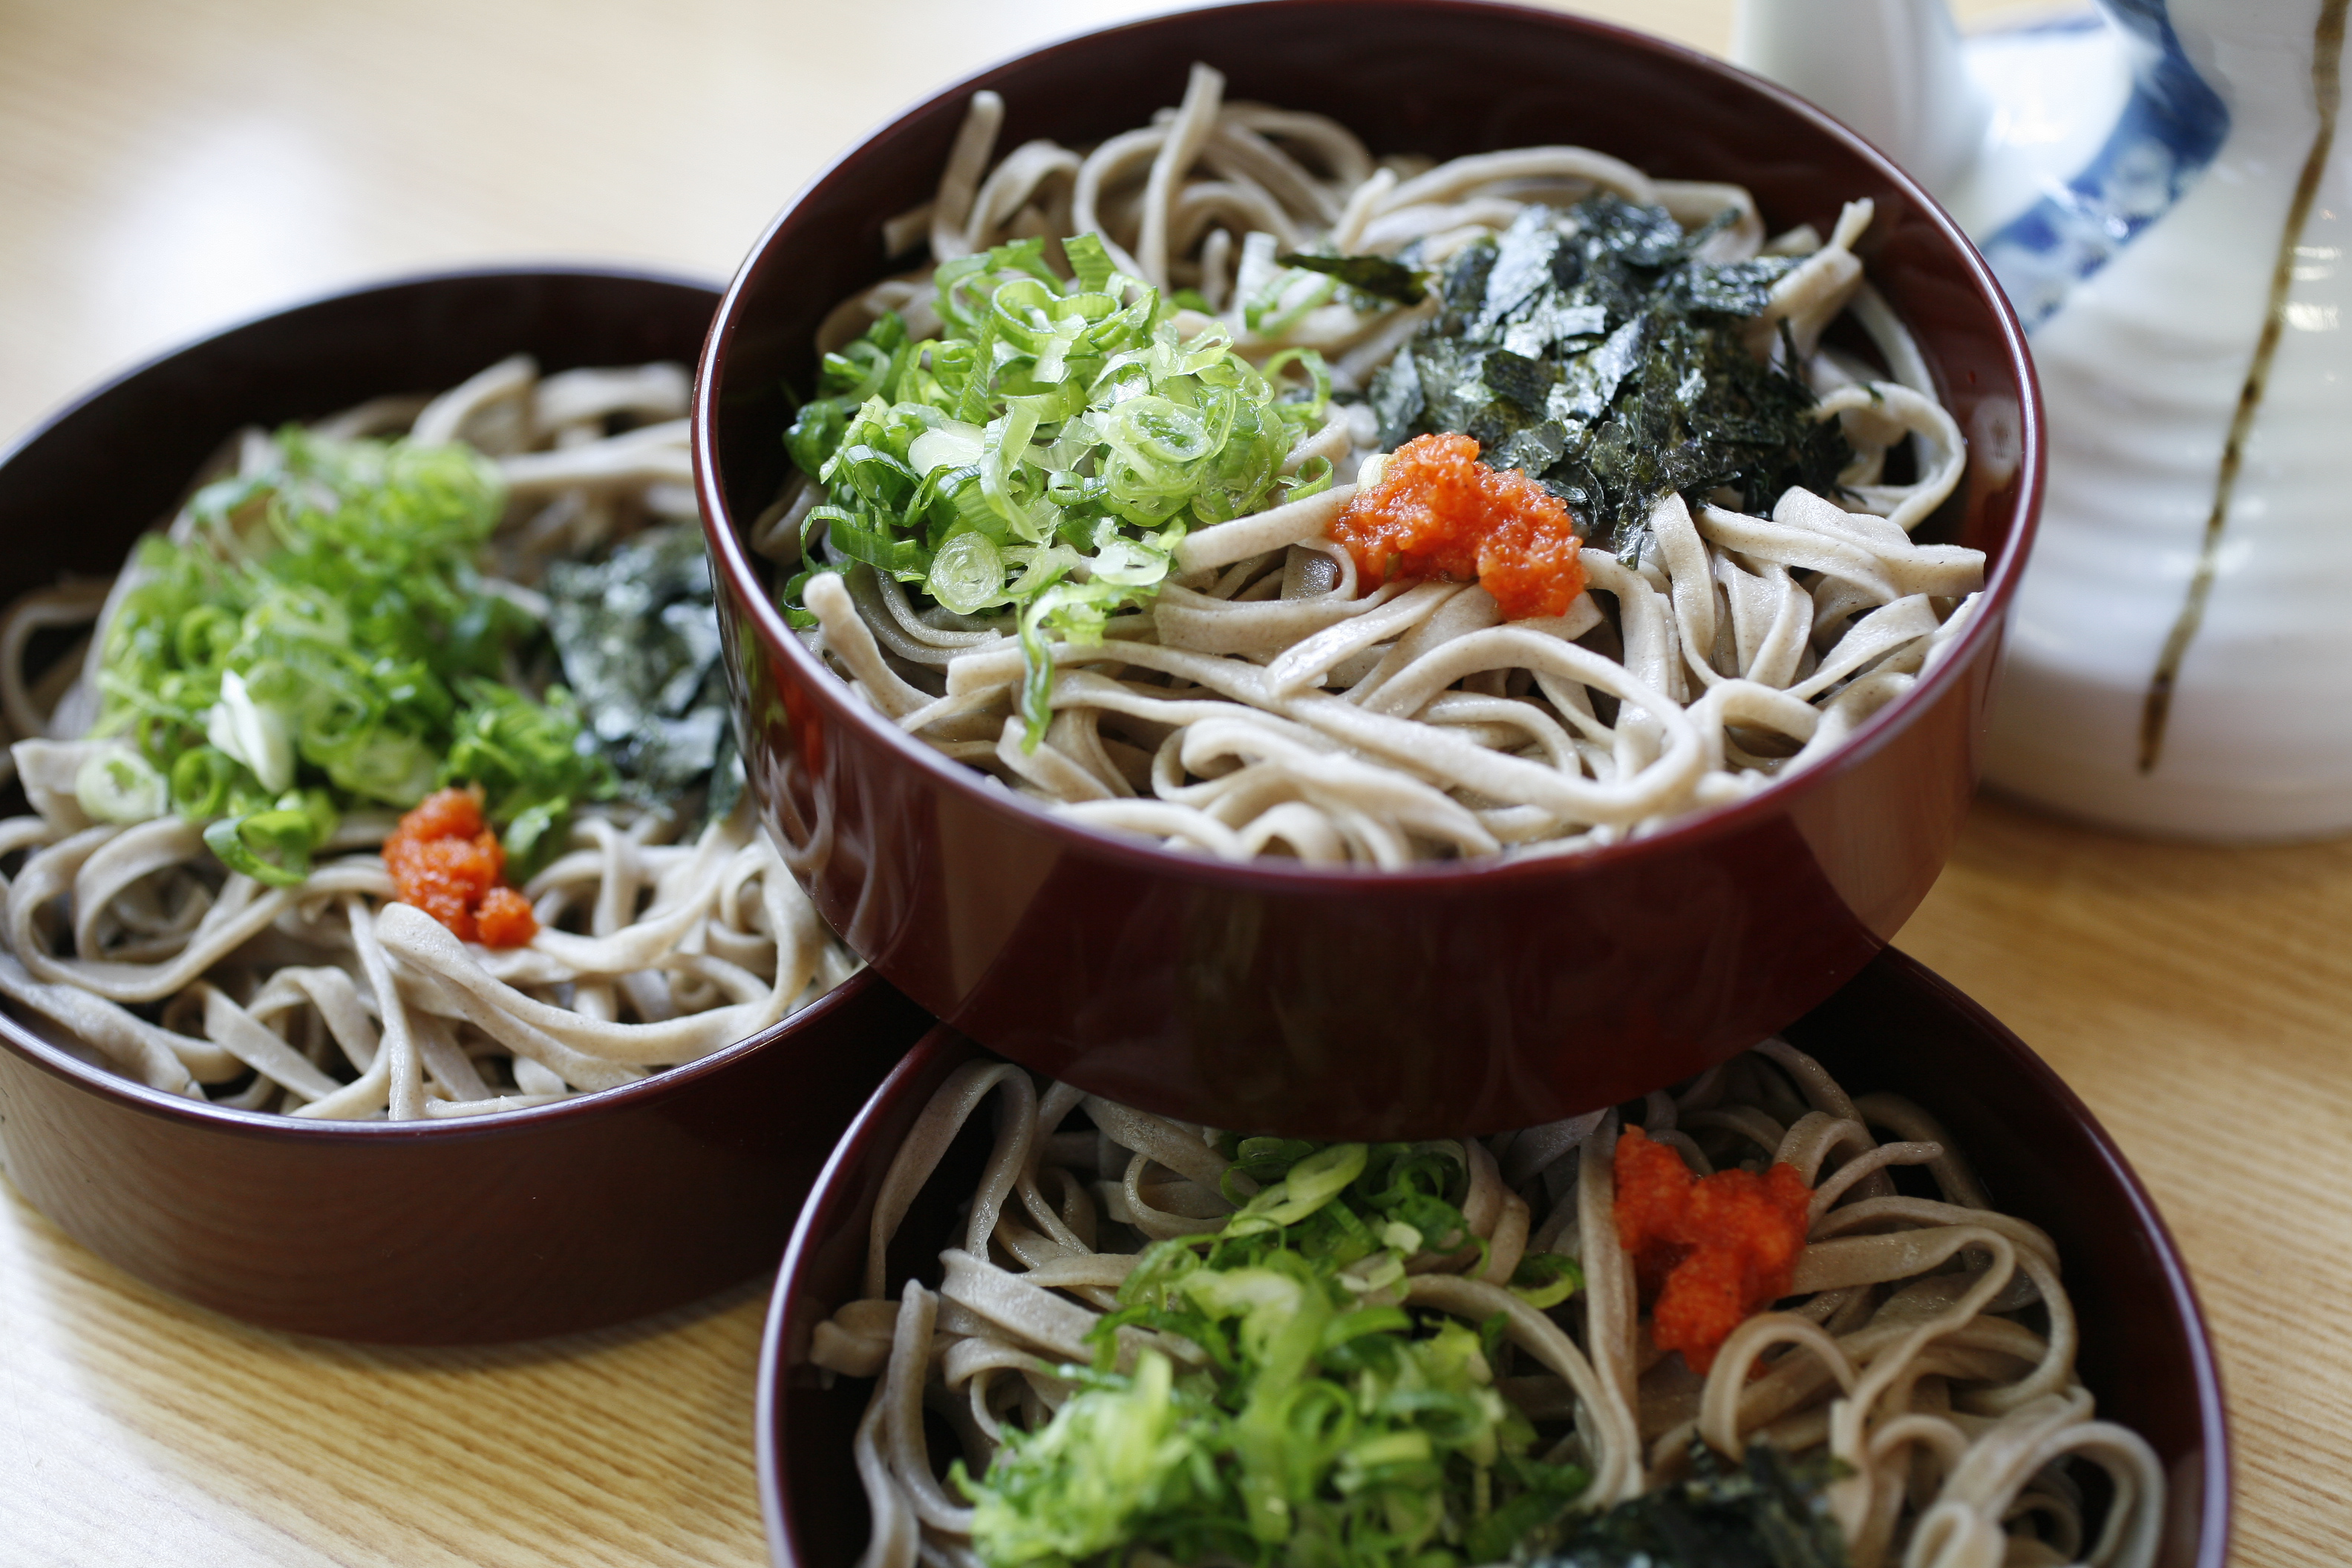Soba: (796, 107, 1997, 868), (887, 1069, 2126, 1568), (40, 381, 849, 1116)
